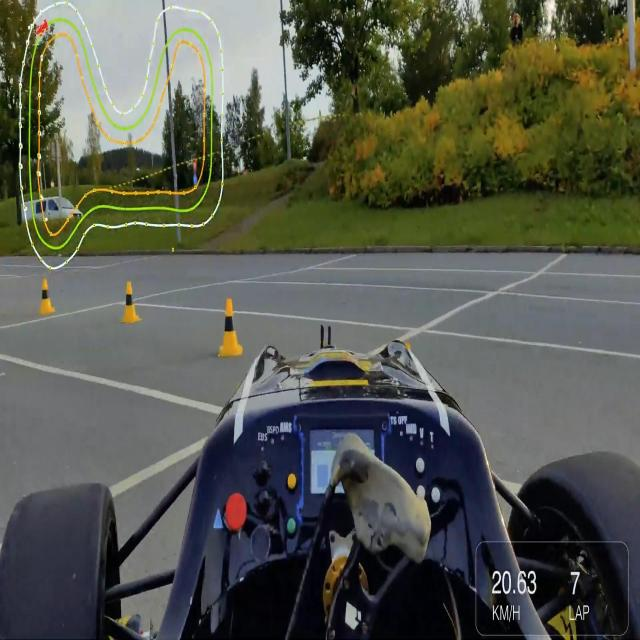yellow_cone: (214, 297, 245, 358), (119, 278, 143, 326), (36, 276, 56, 316)
